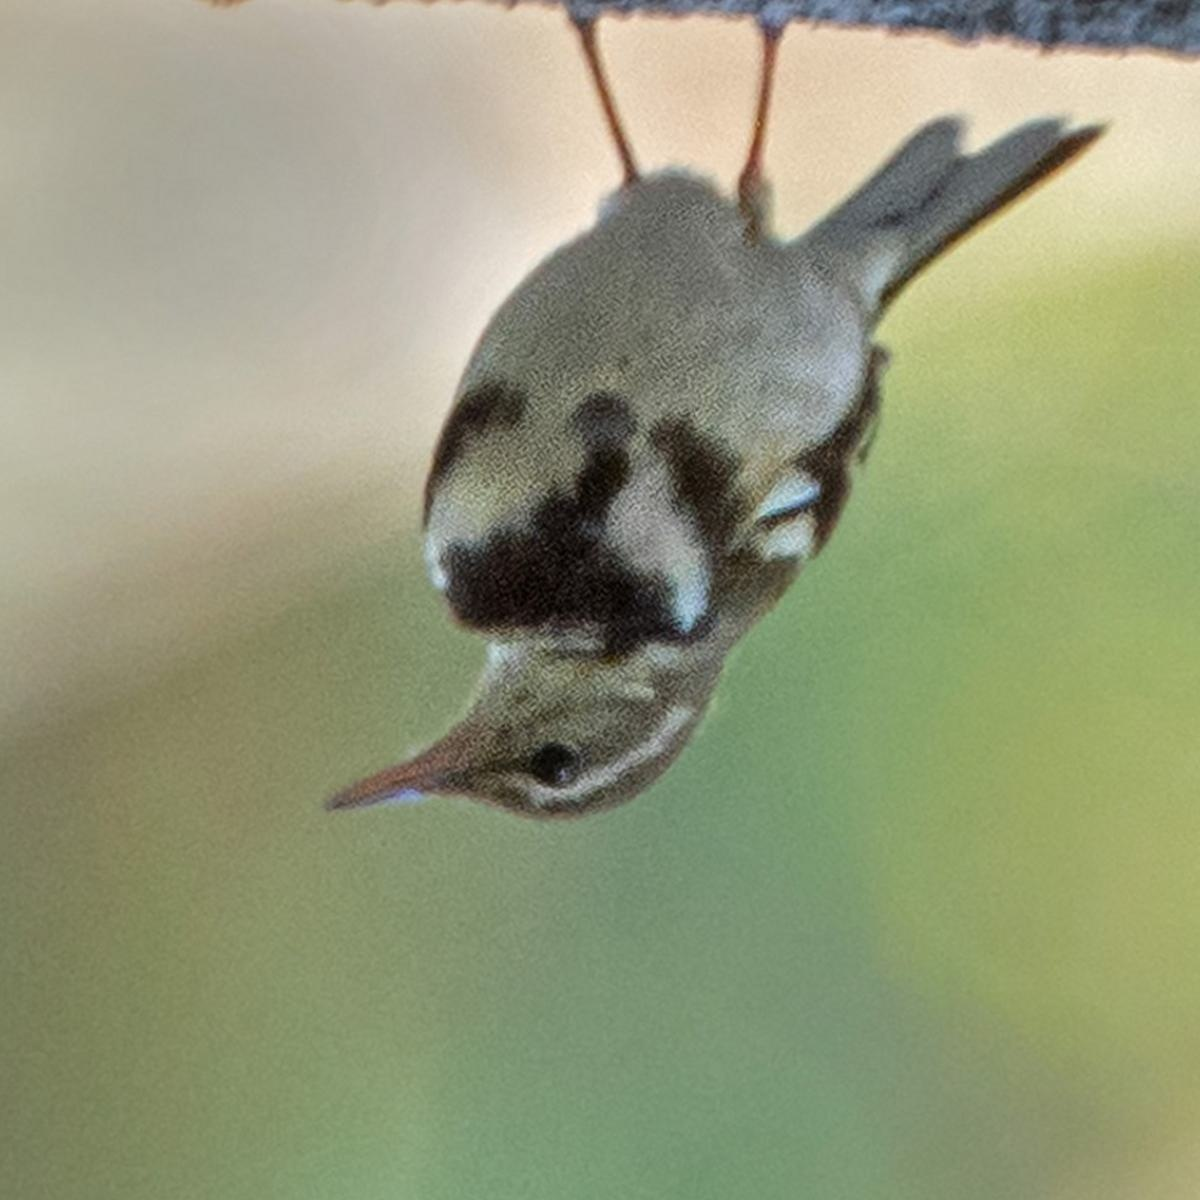wagtail: (316, 56, 1096, 905)
